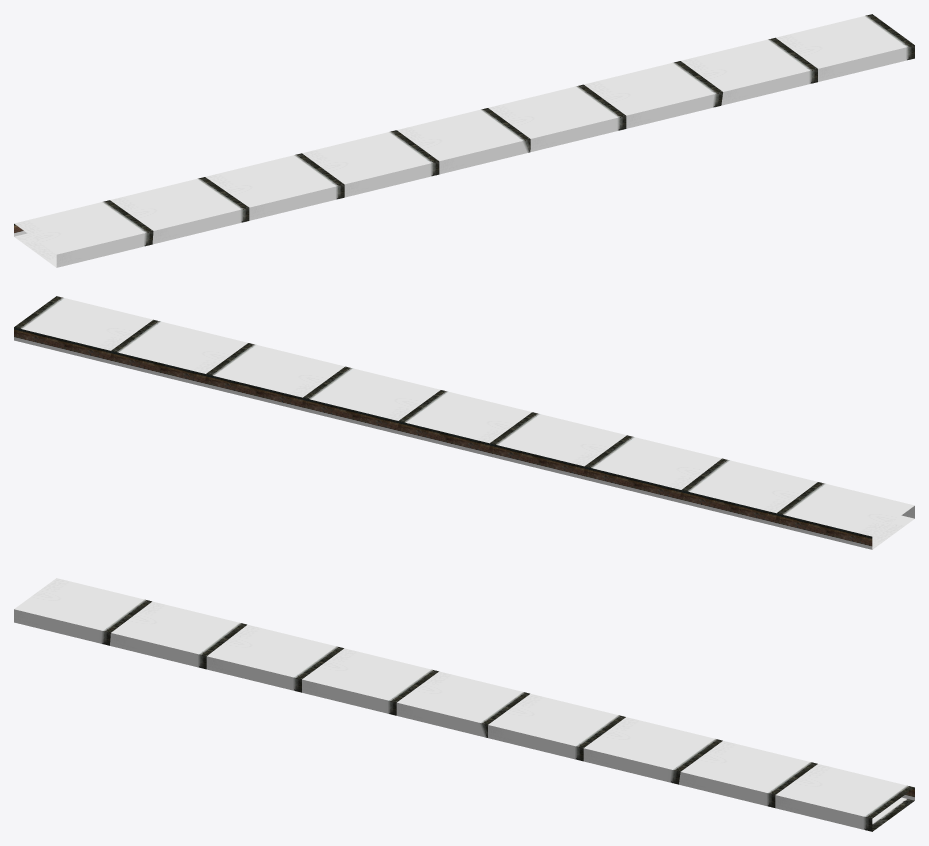
File: dirt.fbx
3 renders of one model, top to bottom at view 1: azimuth 30°, elevation 25°; view 2: azimuth 150°, elevation 25°; view 3: azimuth 330°, elevation 25°, orthographic.
Parts seen in each view (by area): view 1: grond__8_; view 2: grond__8_; view 3: grond__8_.
Part boxes in pixels (<box>): grond__8_: <box>14,14,914,267</box>; grond__8_: <box>14,296,914,549</box>; grond__8_: <box>14,578,914,831</box>.
Size of the model in its own units: 21392 by 316 by 1839.
1 material, 1 textured.
